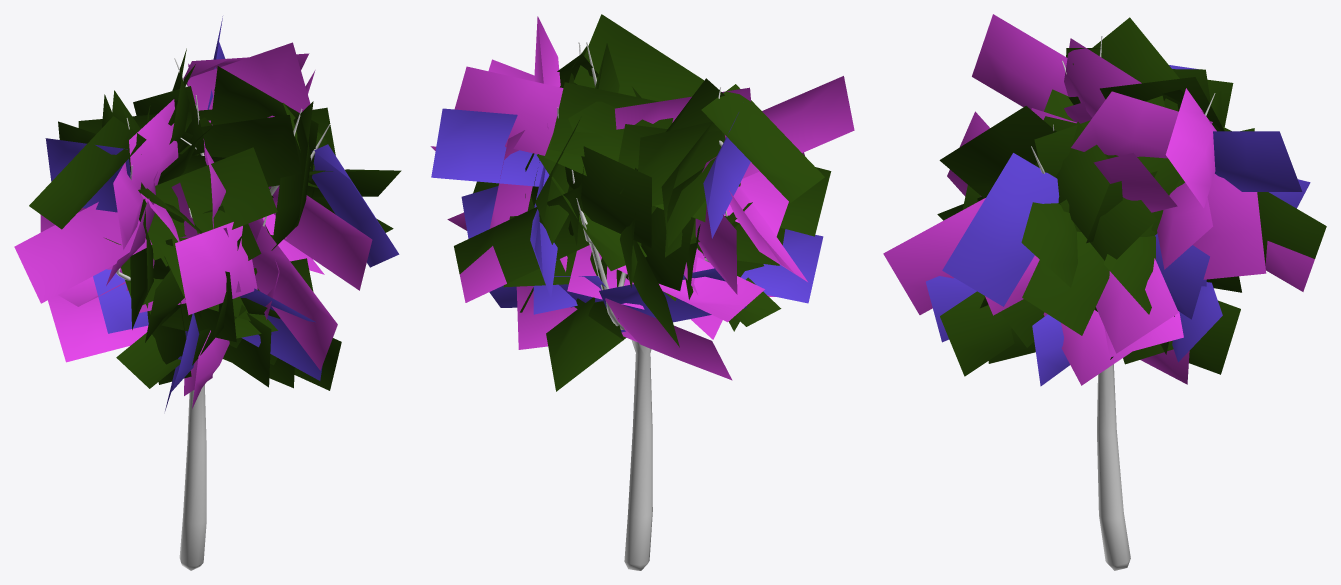
Rendered from Boom11.fbx.
3 renders of one model, left to right at view 1: azimuth 30°, elevation 25°; view 2: azimuth 150°, elevation 25°; view 3: azimuth 270°, elevation 25°, orthographic. The views are drawn at different scales.
Visible parts, largest first — view 1: Boom5_LOD0; view 2: Boom5_LOD0; view 3: Boom5_LOD0.
Part boxes in pixels (x1=…): Boom5_LOD0: x1=14, y1=16, x2=401, y2=570; Boom5_LOD0: x1=430, y1=14, x2=854, y2=570; Boom5_LOD0: x1=883, y1=14, x2=1326, y2=570.
Size of what is drawn, in the model's own units: 1986 by 2980 by 2270.
